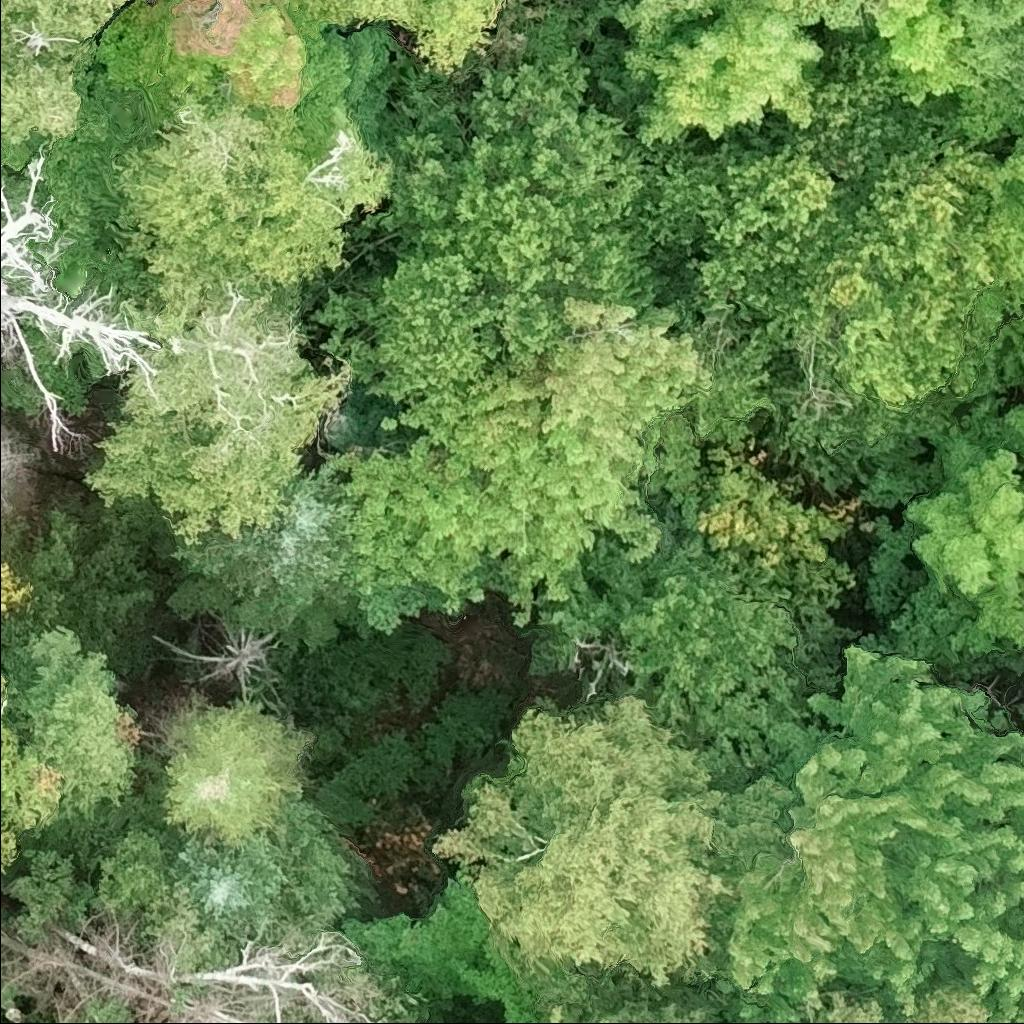crown: (315, 43, 717, 412), (685, 40, 1011, 453), (336, 298, 712, 638), (715, 628, 1023, 1023), (431, 689, 796, 989), (82, 289, 353, 549), (98, 97, 393, 324), (583, 531, 812, 787), (0, 151, 160, 445), (94, 0, 419, 144), (163, 452, 373, 653), (868, 421, 1023, 666), (622, 0, 827, 149), (172, 799, 381, 938), (0, 620, 136, 823), (160, 691, 315, 847), (0, 0, 132, 149), (302, 0, 504, 84), (152, 615, 287, 718), (860, 0, 983, 106), (0, 721, 69, 879), (800, 977, 989, 1023), (613, 0, 718, 47), (0, 421, 44, 528), (781, 0, 831, 11), (546, 1003, 566, 1023), (1009, 1006, 1023, 1023), (0, 677, 5, 717), (598, 1017, 611, 1023), (1021, 755, 1023, 768)
